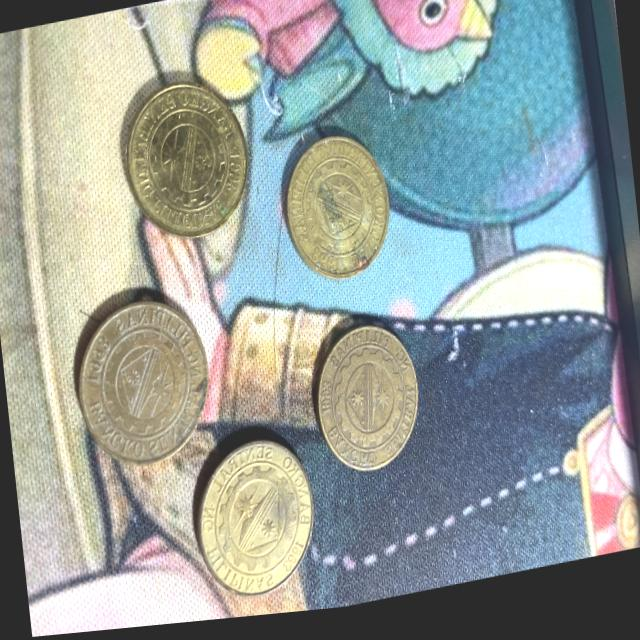25Cent_Old_Back: (111, 66, 252, 254), (78, 279, 214, 468), (195, 435, 317, 609), (315, 321, 425, 493), (282, 136, 398, 291)
